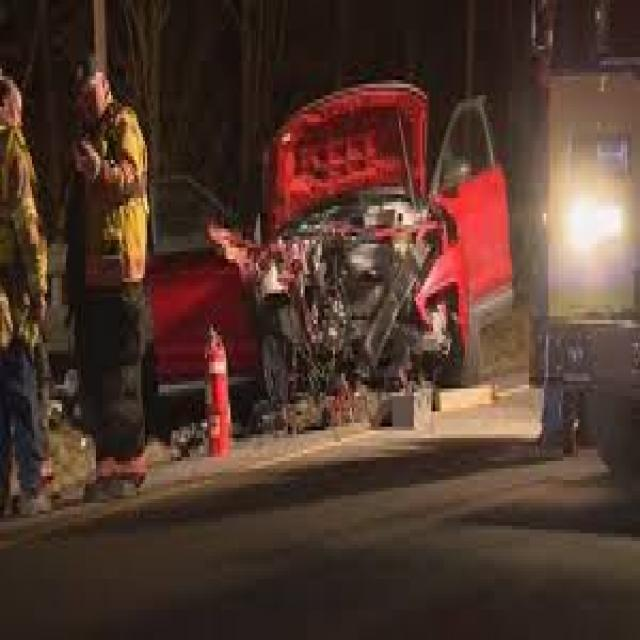accident: (225, 82, 506, 419)
